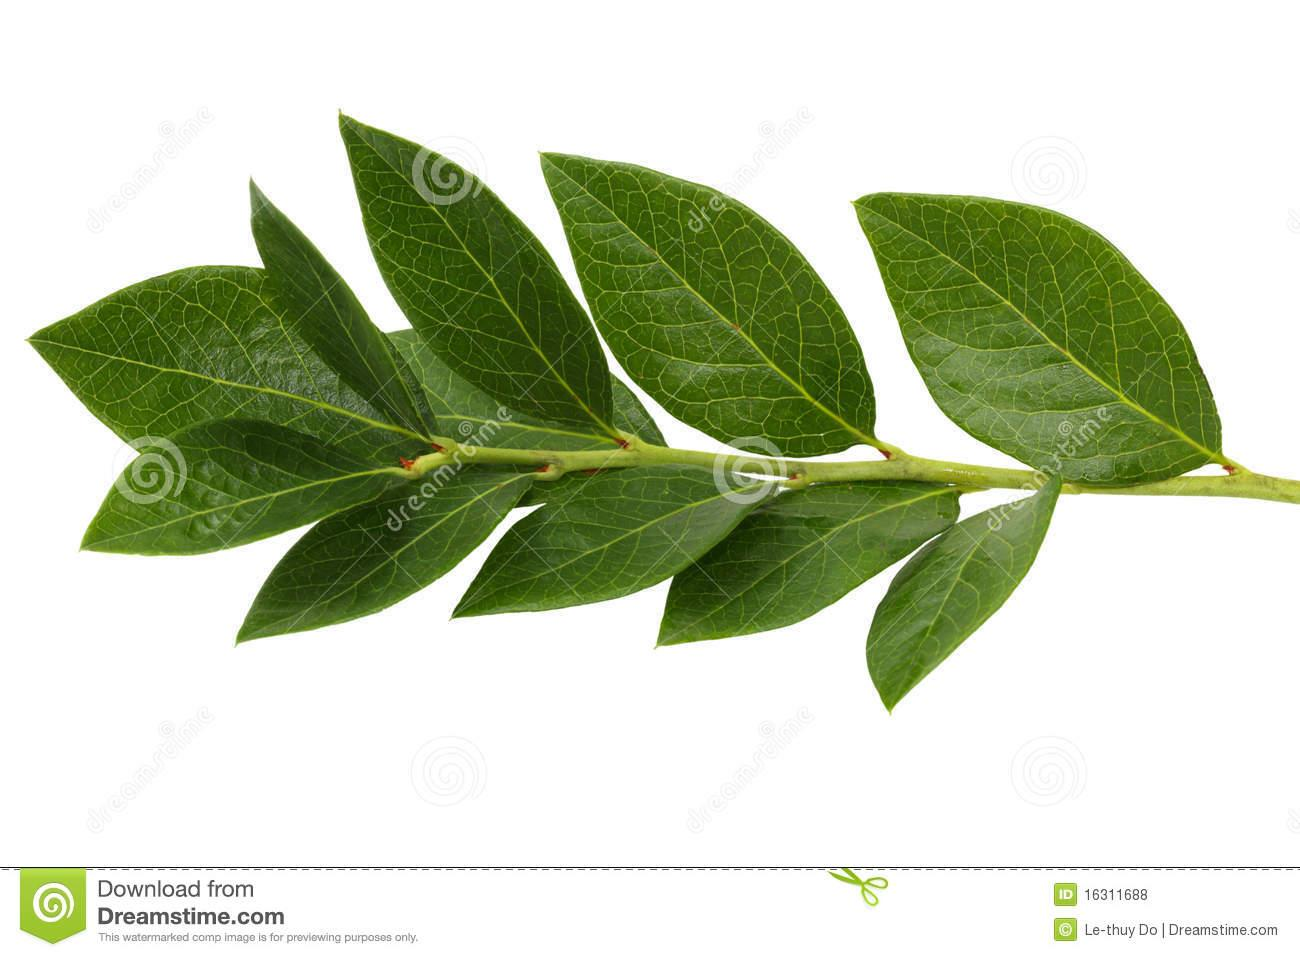Blueberry leaf: (523, 131, 898, 467), (844, 175, 1245, 485), (338, 110, 618, 442), (418, 470, 829, 638), (827, 482, 1092, 733), (228, 453, 546, 655), (642, 481, 954, 665), (42, 416, 412, 564), (241, 172, 444, 434)
